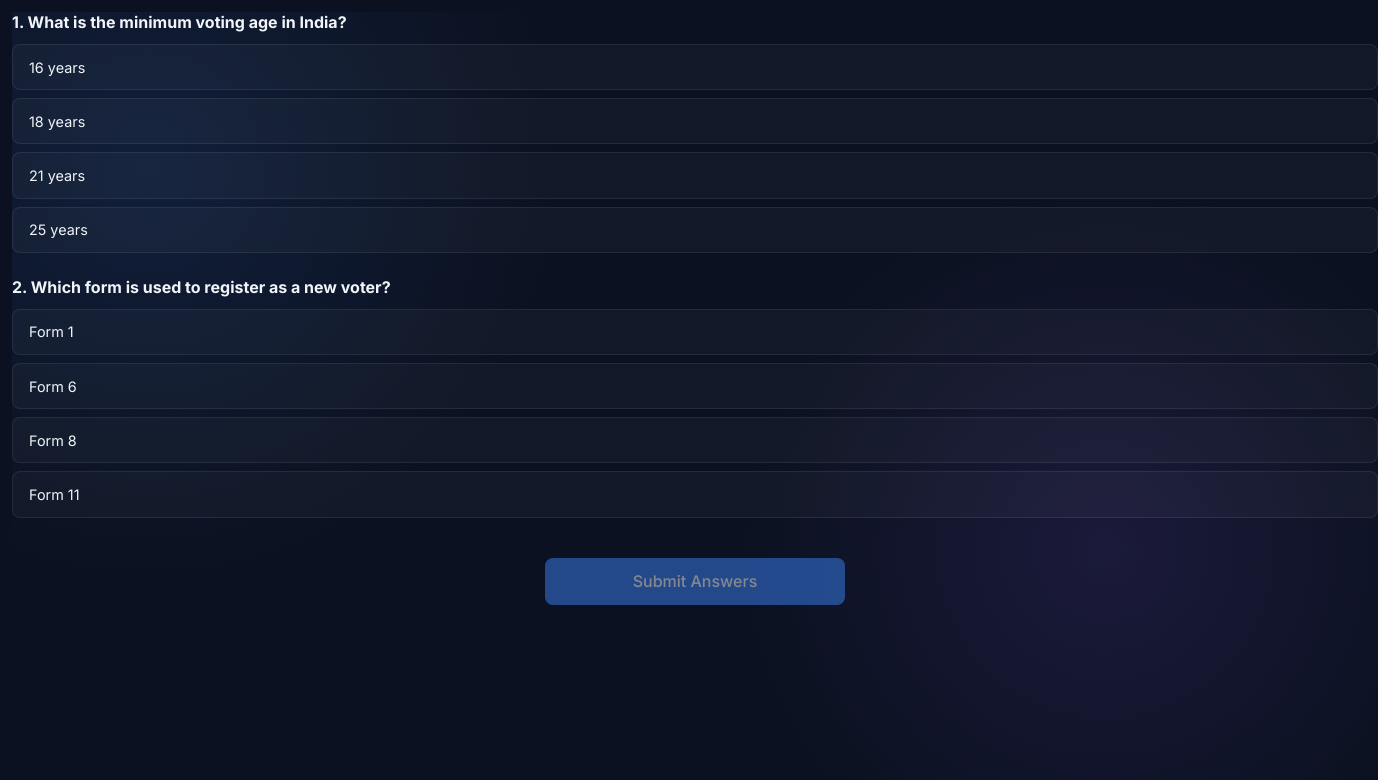
it: Quiz › disables submit until all questions are answered
Expected: the button "Submit Answers" is disabled, [545,558,845,605]
# Answer only the first question
Click the text "18 years". click: click(695, 121)
box: [12,98,1377,144]
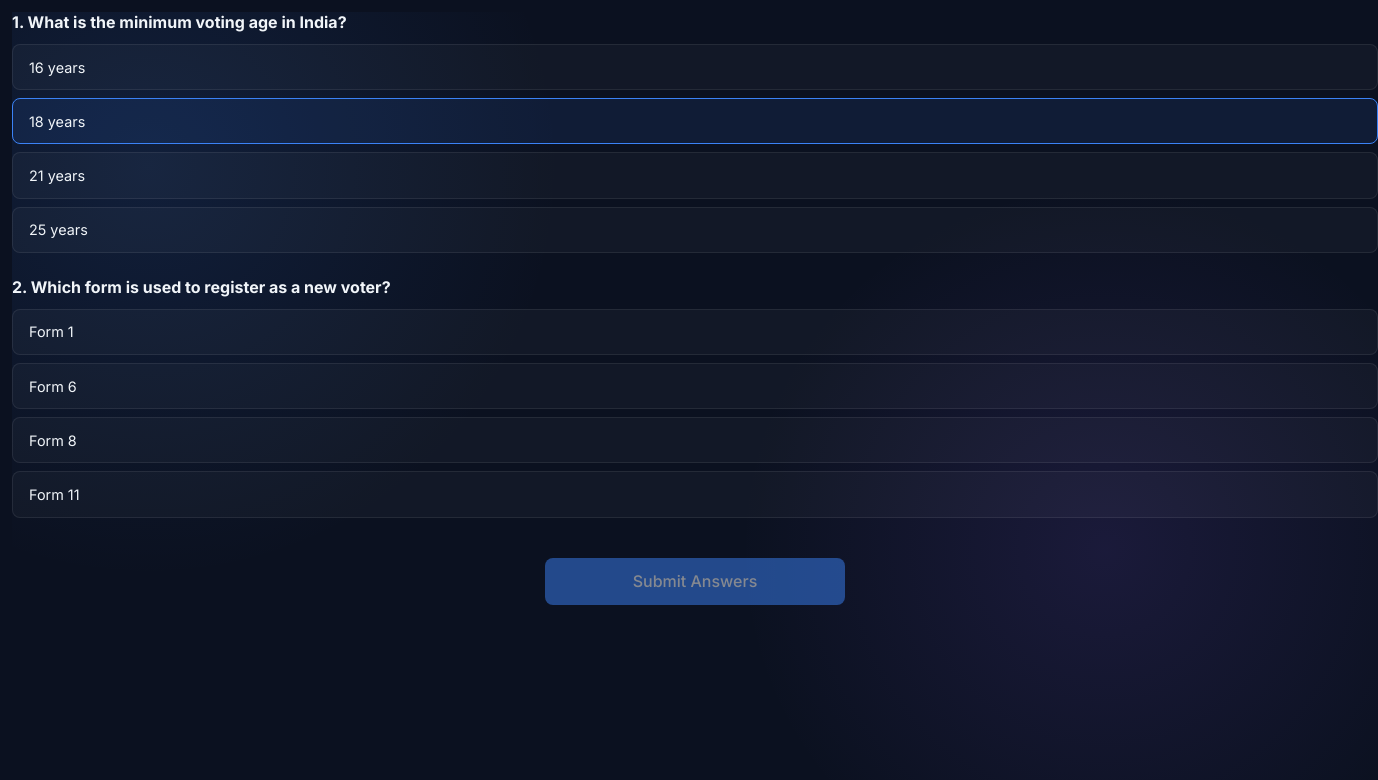
Expected: the button "Submit Answers" is disabled, [545,558,845,605]
# Answer the second question
Click the text "Form 6". click: click(695, 386)
box: [12,363,1377,409]
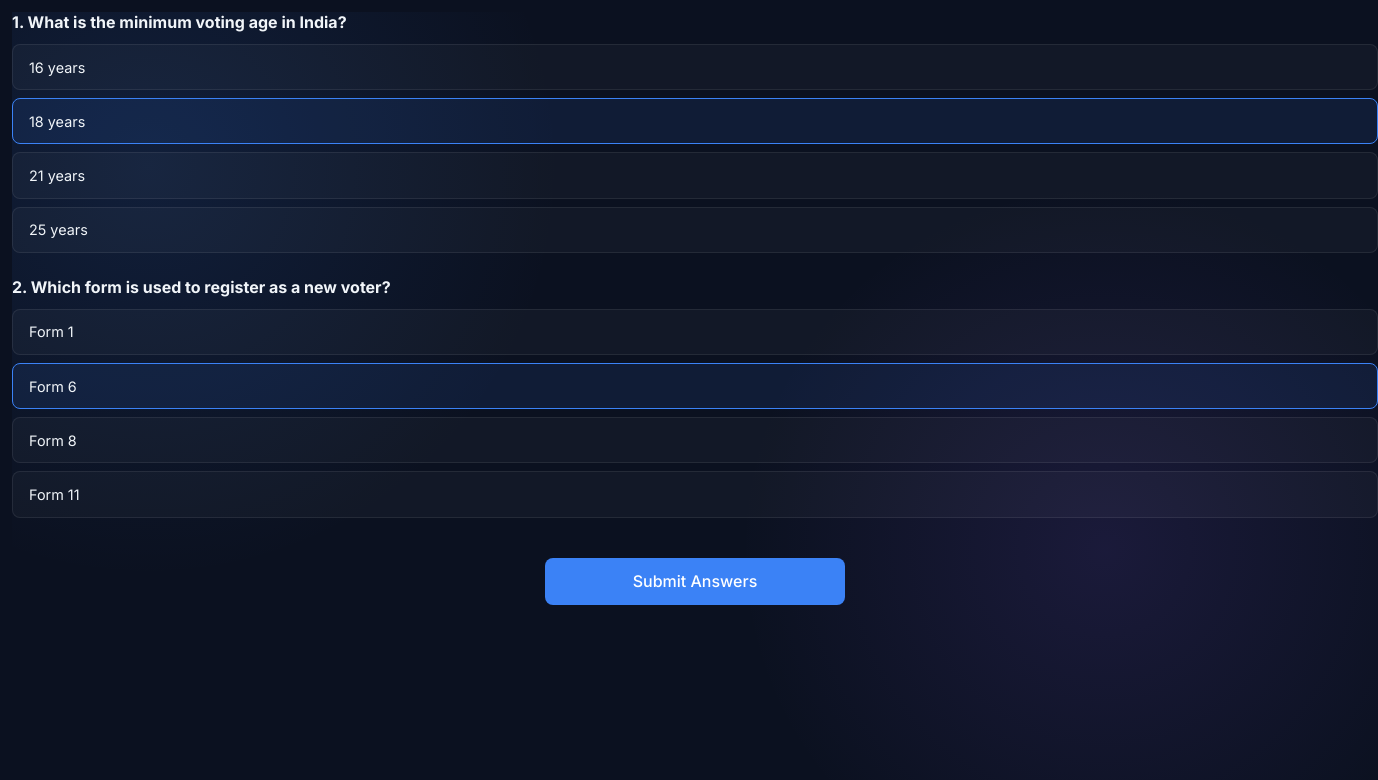
Expected: the button "Submit Answers" is enabled, [545,558,845,605]
